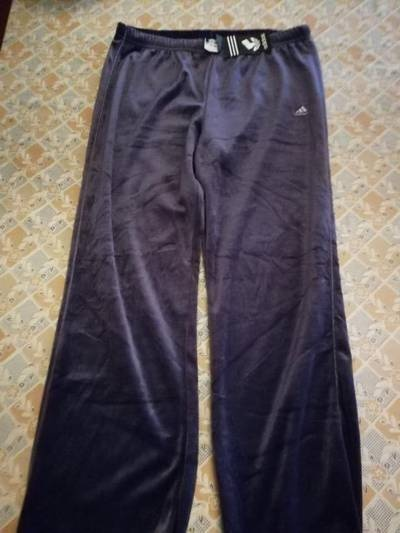Pants: (20, 15, 373, 528)
